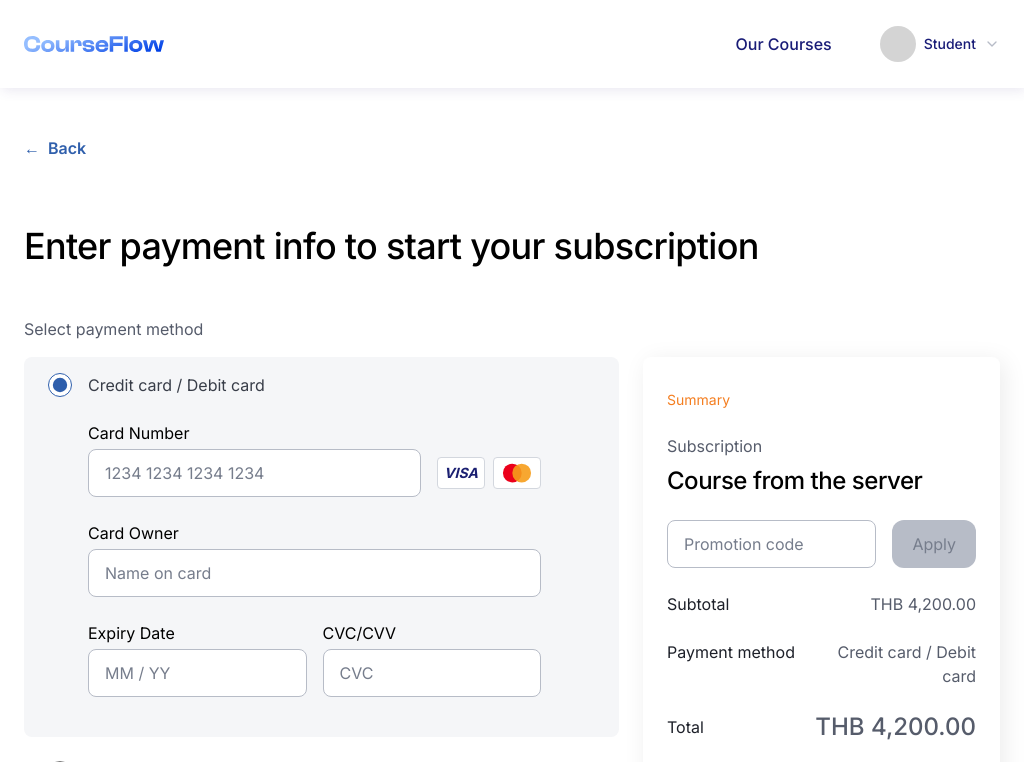
Scenario: checkout › formats and limits the card number to exactly 16 digits
In the field labelled "Card Number": point(254, 473) [88,449,421,497], type "42424242424242429999"
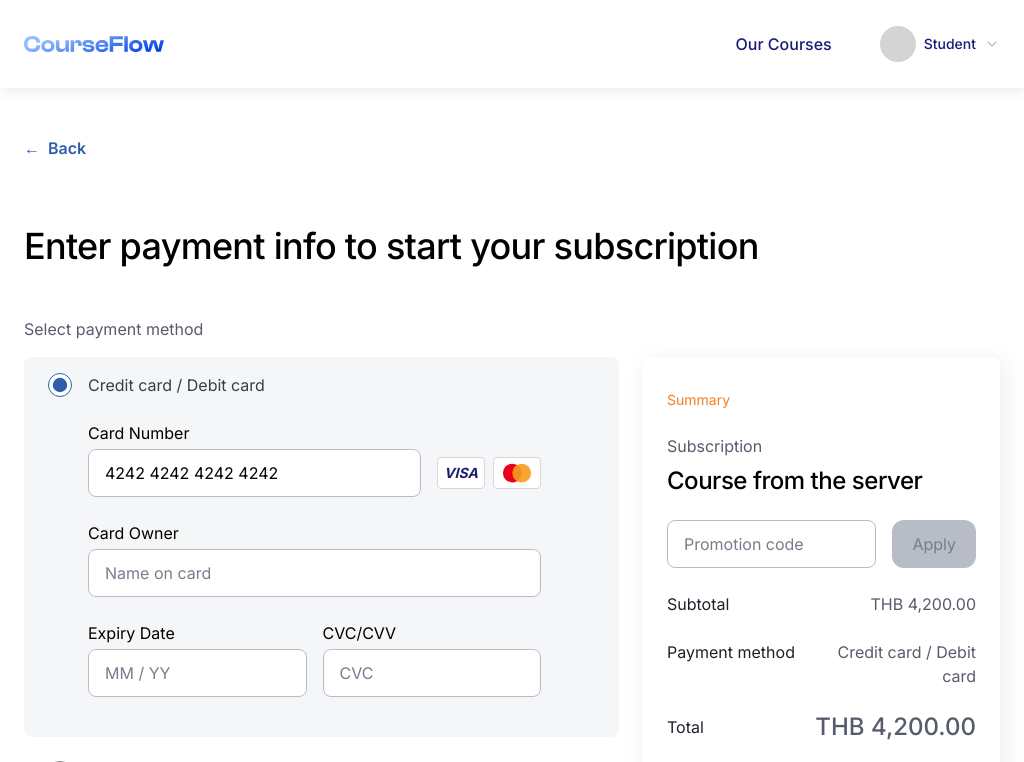
Now the field labelled "Card Number" holds "4242 4242 4242 4242", box [88,449,421,497]
